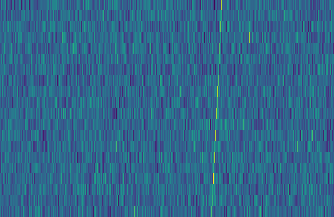signal: (207, 0, 227, 217)
